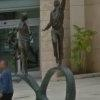Statue: (38, 0, 84, 61)
